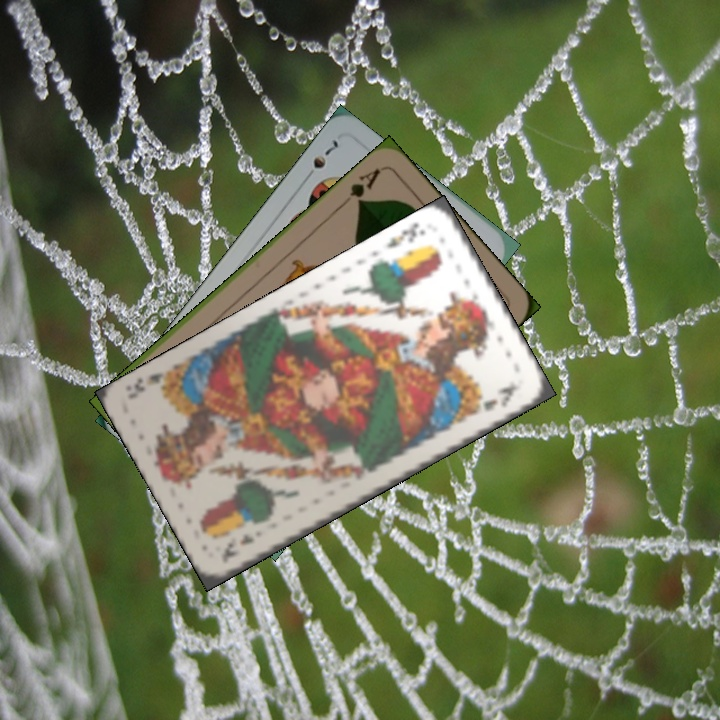EK: (217, 530, 258, 566), (382, 219, 428, 251)
GA: (337, 164, 384, 209)
S7: (300, 135, 341, 184)
